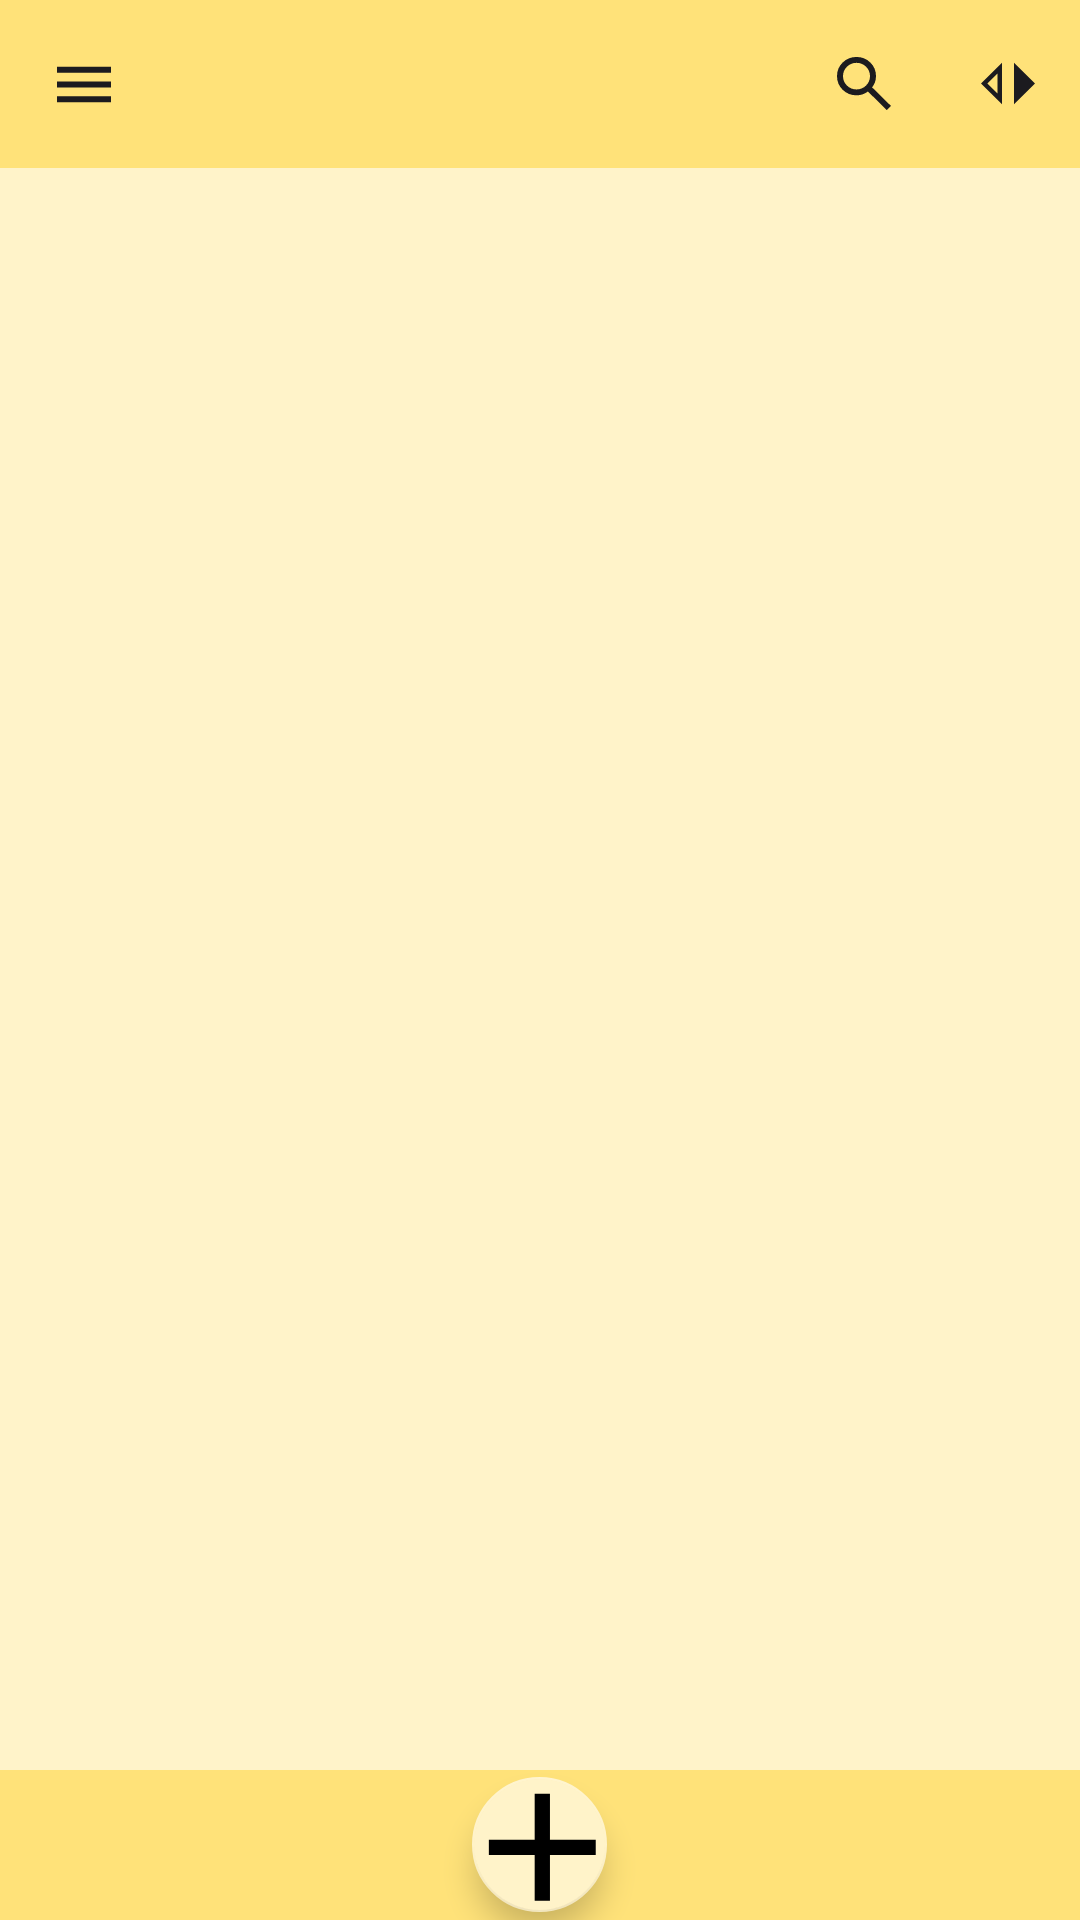

Icon bounding boxes for this 1080x1920 phone screenshot, format (x1, y1, x2, y2):
plus: (472, 1777, 607, 1916)
